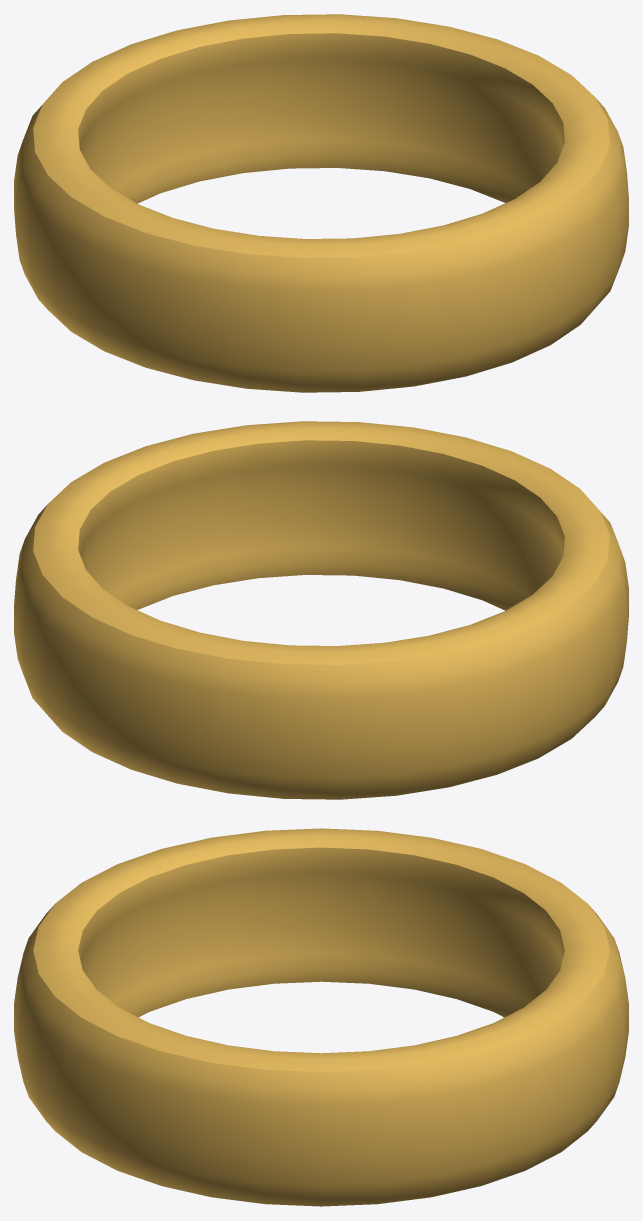
File: base-ring-1.glb
3 renders of one model, top to bottom at view 1: azimuth 30°, elevation 25°; view 2: azimuth 150°, elevation 25°; view 3: azimuth 270°, elevation 25°, orthographic.
Parts seen in each view (by area): view 1: Ring; view 2: Ring; view 3: Ring.
Part boxes in pixels (x1,y1,x2,y2): Ring: (14, 14, 628, 392); Ring: (14, 421, 628, 799); Ring: (14, 828, 628, 1206).
Bounding box in the file's own units: 0.4207 × 0.1092 × 0.4207.
